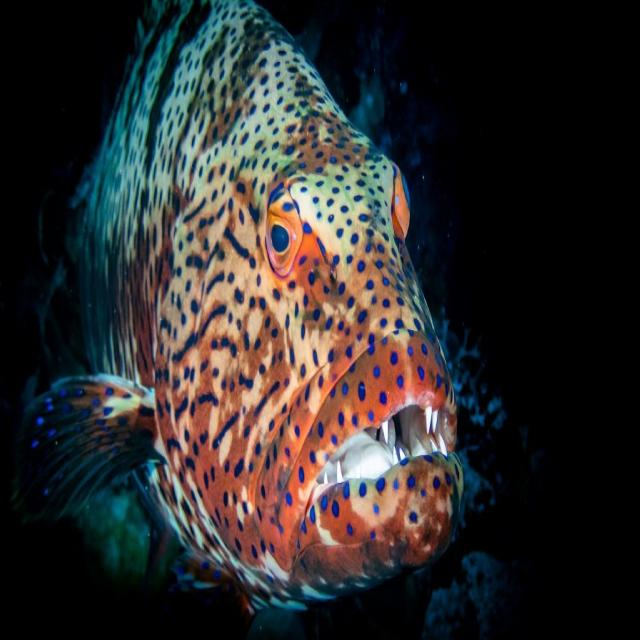grouper: (28, 1, 472, 618)
